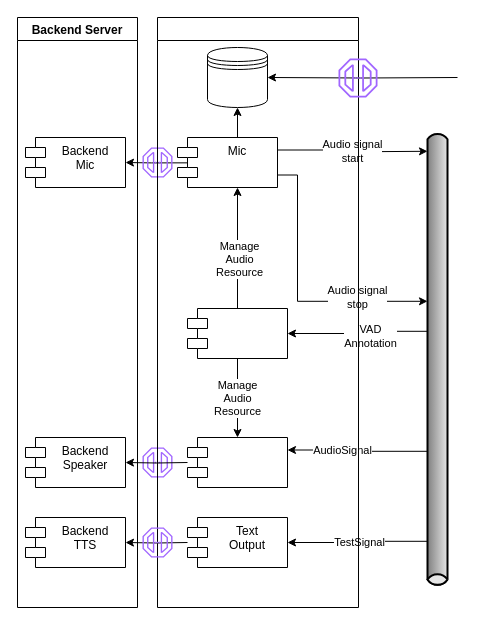
This 483x625 diagram has some shape labels left out. The box of each missing label's shape, as (x1, y1, x2, y2) in pixels:
Audio Controller: (186, 308, 288, 358)
Backend Container: (156, 16, 358, 608)
Speaker: (186, 436, 288, 488)
